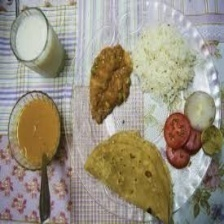rice: (130, 23, 195, 104)
